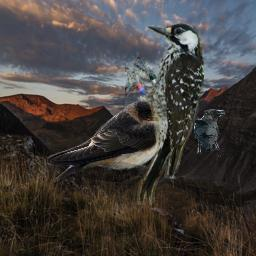Crow: (194, 108, 225, 158)
Swallow: (47, 100, 167, 182)
Woodpecker: (125, 23, 204, 205)
